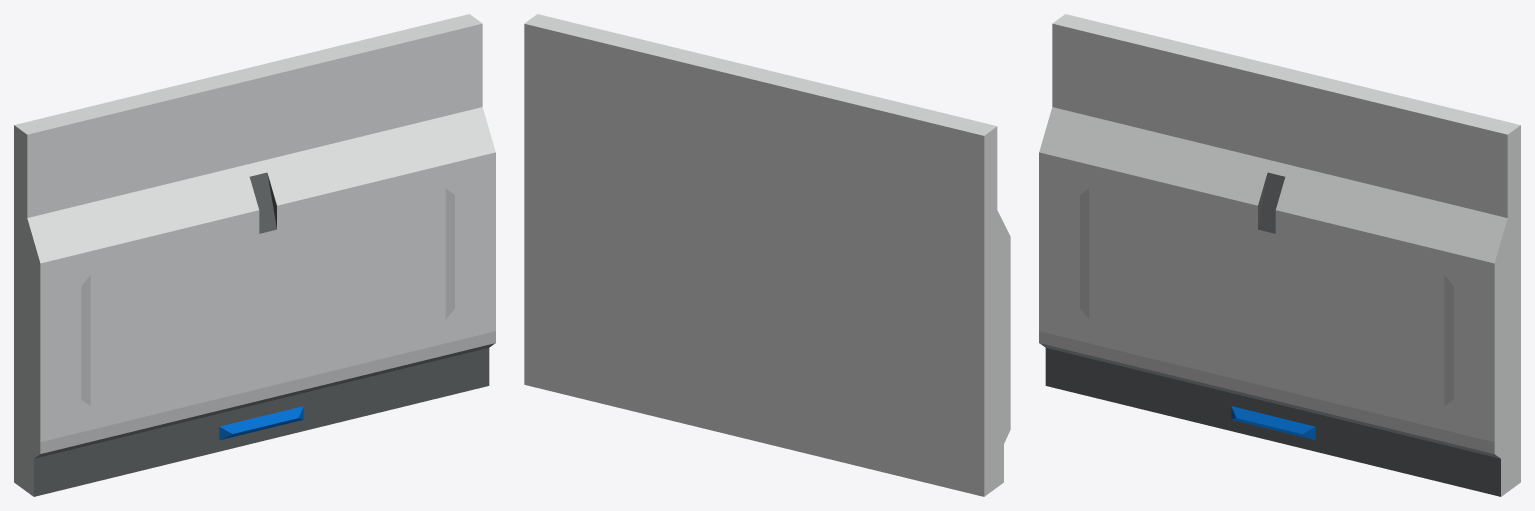
Rendered from Wall_type_A_043.fbx.
3 views of the same model, side by side, from view 1: azimuth 30°, elevation 25°; view 2: azimuth 150°, elevation 25°; view 3: azimuth 330°, elevation 25° (orthographic).
Visible parts, largest first — view 1: Wall_type_A_043; view 2: Wall_type_A_043; view 3: Wall_type_A_043.
Part boxes in pixels (left/top/right/bottom): Wall_type_A_043: left=14, top=14, right=495, bottom=496; Wall_type_A_043: left=524, top=14, right=1010, bottom=496; Wall_type_A_043: left=1039, top=14, right=1520, bottom=496.
Size of the model in its own units: 200 by 20 by 150.
